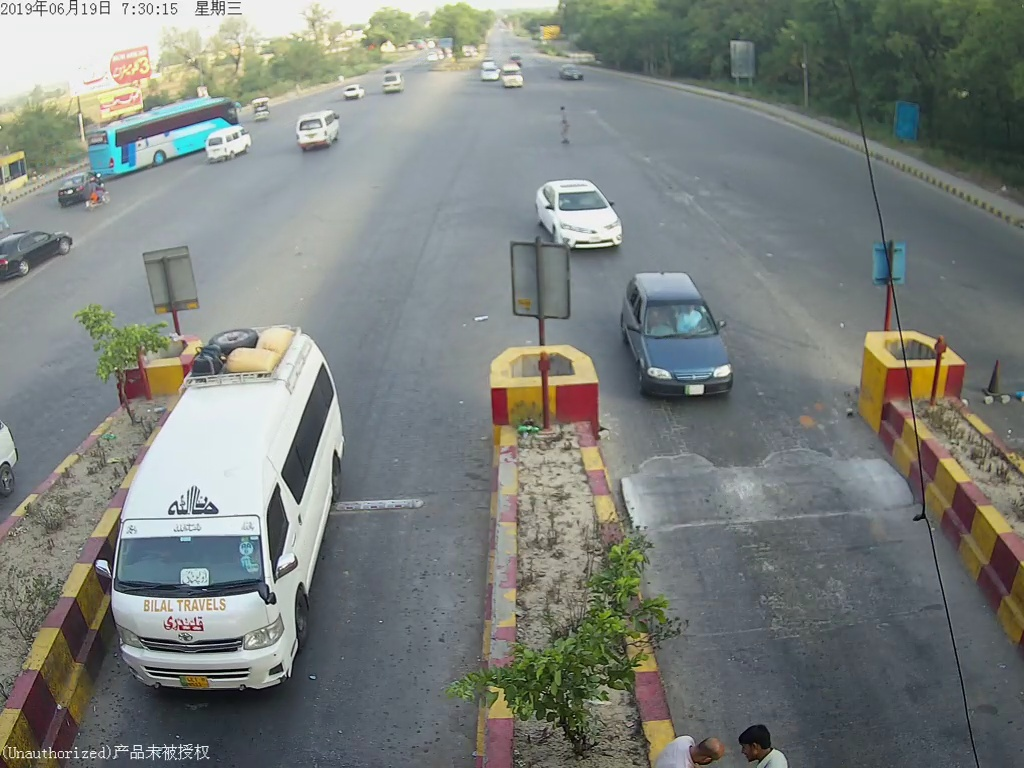Cat-1: (615, 272, 748, 402), (529, 176, 631, 247)
Cat-2: (103, 326, 369, 719)
